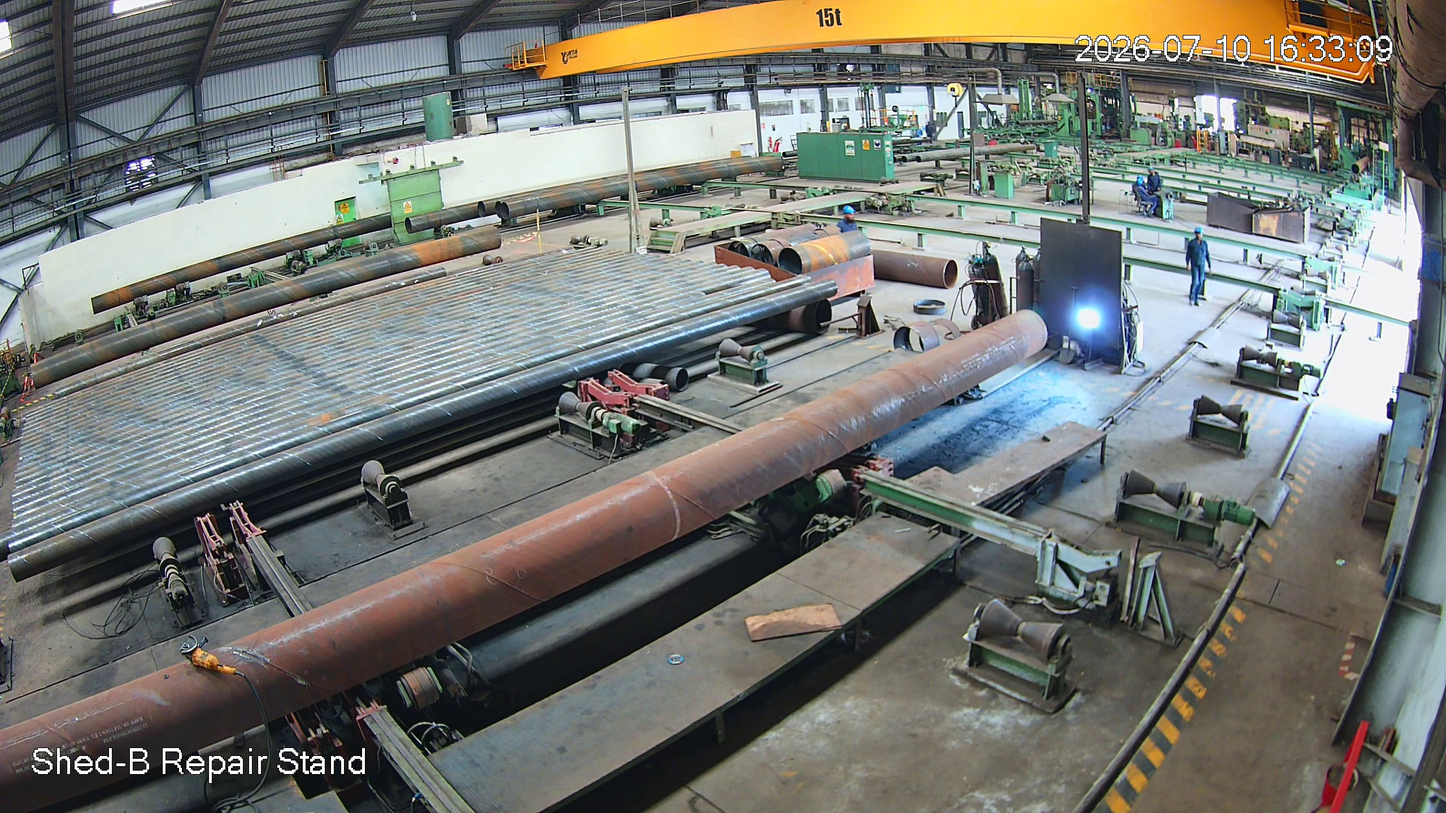Helmet: (839, 201, 856, 223), (1193, 224, 1208, 246)
Person: (1184, 225, 1216, 304), (836, 202, 860, 239)
